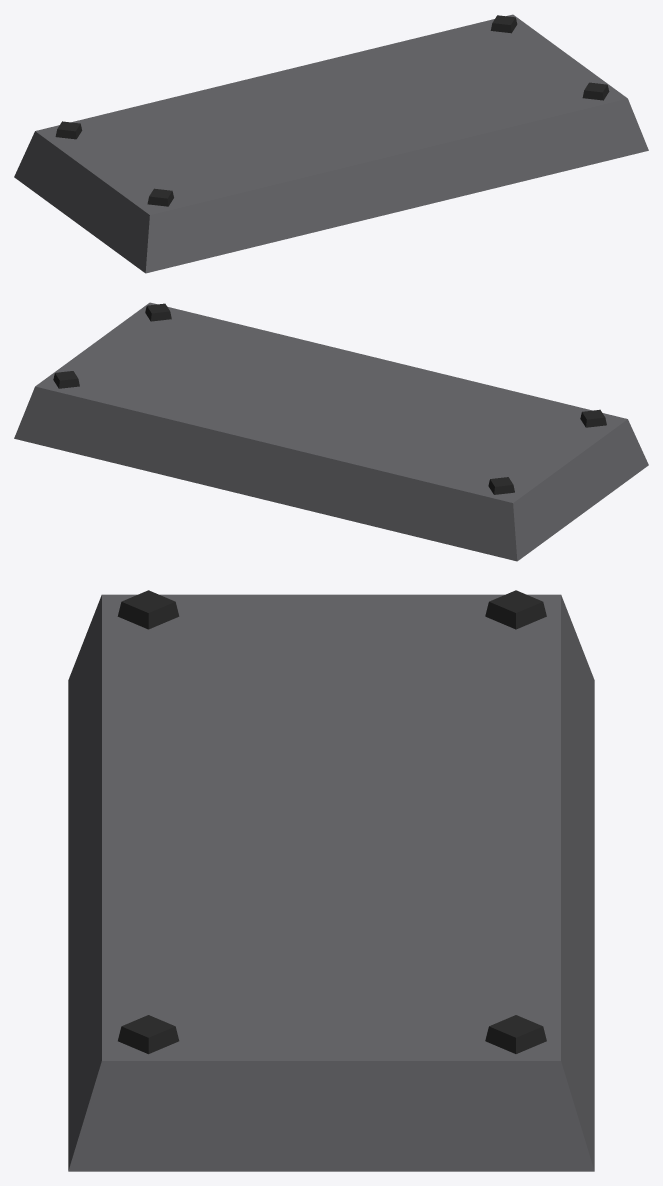
File: SM_Prop_Panel_01.glb
3 renders of one model, top to bottom at view 1: azimuth 30°, elevation 25°; view 2: azimuth 150°, elevation 25°; view 3: azimuth 270°, elevation 25°, orthographic. The views are drawn at different scales.
Parts seen in each view (by area): view 1: SM_Prop_Panel_01; view 2: SM_Prop_Panel_01; view 3: SM_Prop_Panel_01.
Boxes of the visible parts, bbox=[...] form: SM_Prop_Panel_01: bbox=[14, 14, 648, 273]; SM_Prop_Panel_01: bbox=[14, 302, 648, 561]; SM_Prop_Panel_01: bbox=[68, 590, 594, 1171].
Bounding box in the file's own units: 0.763 × 0.082 × 0.3455.
Materials: 1 (1 with a texture image).
